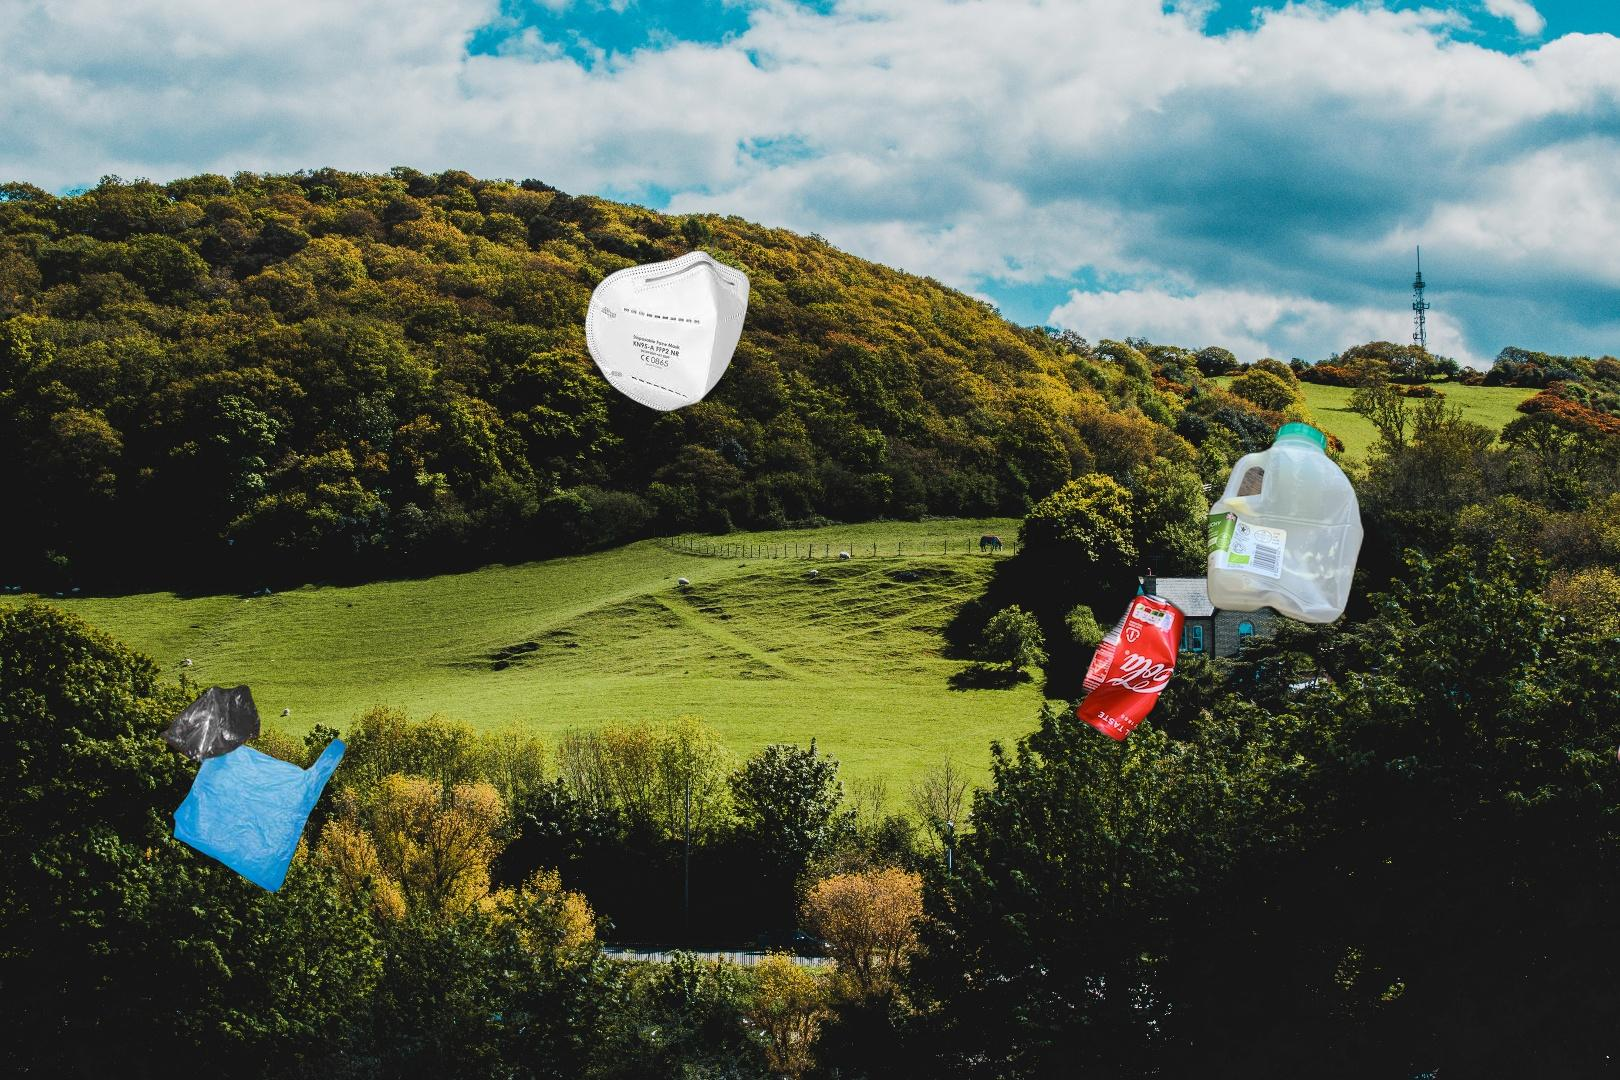metal-cans: (1267, 717, 1620, 1063), (1072, 588, 1190, 749)
plastic-bag: (158, 683, 351, 894)
plastic-bottles: (1202, 416, 1369, 630)
trash: (529, 219, 753, 413)
